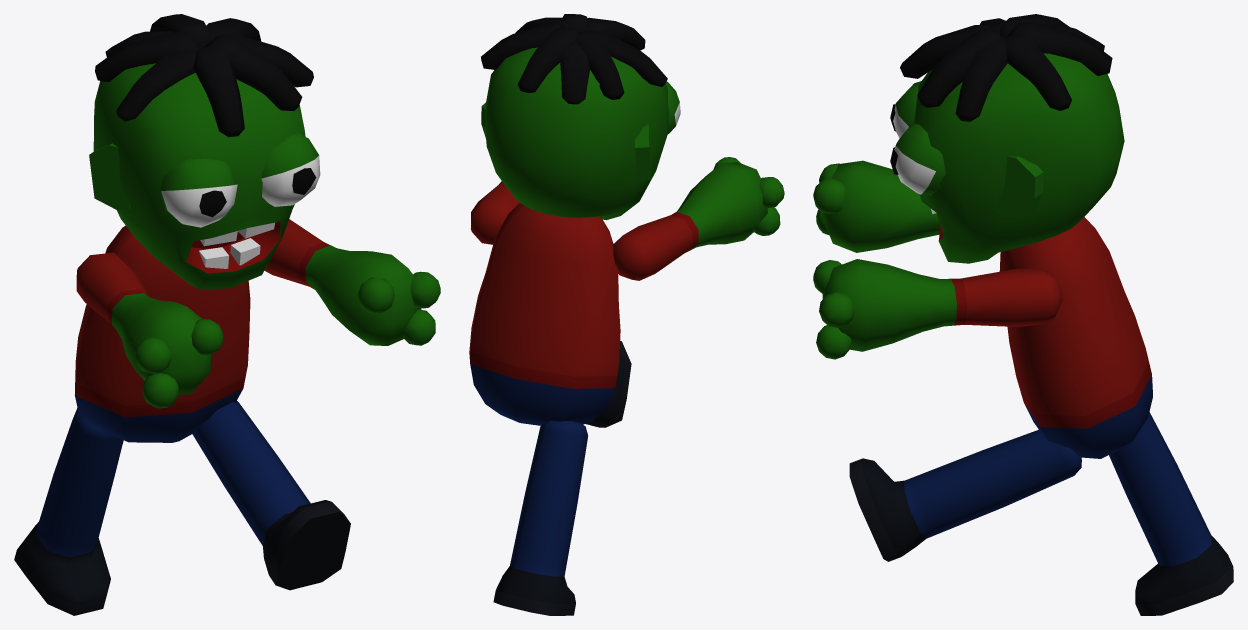
The model's file is Zombie_1.fbx.
The picture shows the model from 3 angles, left to right: view 1: azimuth 30°, elevation 25°; view 2: azimuth 150°, elevation 25°; view 3: azimuth 270°, elevation 25°; orthographic projection. The views are drawn at different scales.
Parts seen in each view (by area): view 1: Zombie_1; view 2: Zombie_1; view 3: Zombie_1.
Part boxes in pixels (x1,y1,x2,y2): Zombie_1: (14,14,440,615); Zombie_1: (469,14,784,615); Zombie_1: (813,14,1233,615).
Bounding box in the file's own units: 2.76 × 5.42 × 3.42.
